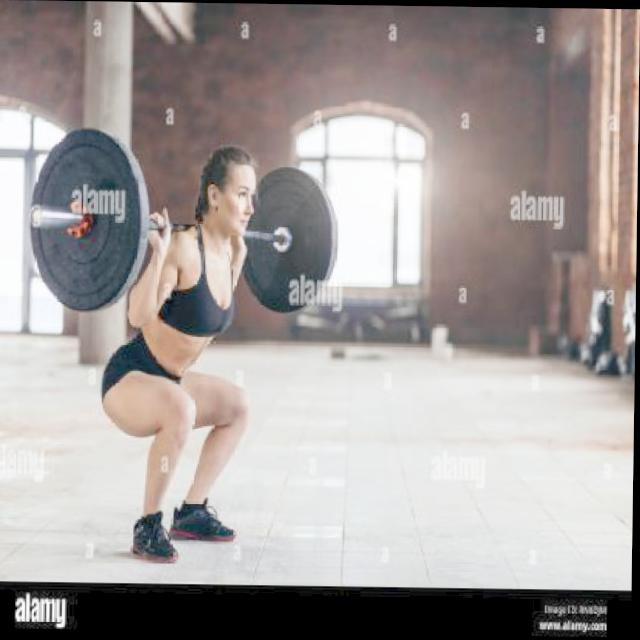barbell: (24, 126, 156, 321)
